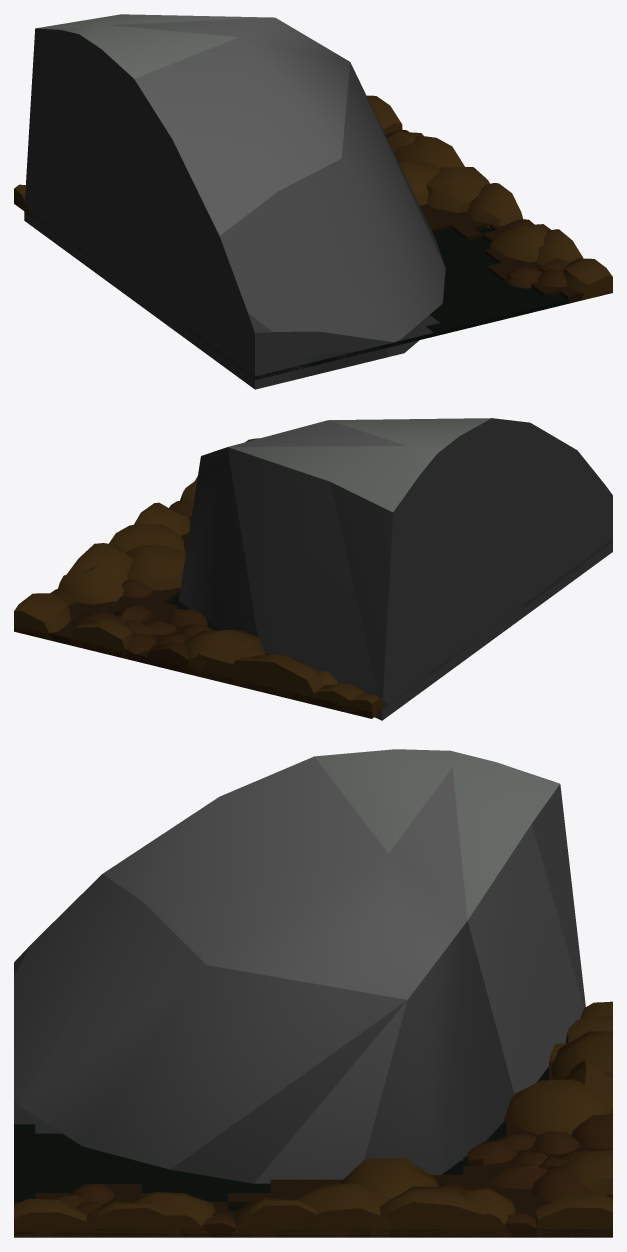
Rendered from holes_rocks_tr.glb.
The picture shows the model from 3 angles, top to bottom: view 1: azimuth 30°, elevation 25°; view 2: azimuth 150°, elevation 25°; view 3: azimuth 270°, elevation 25°; orthographic projection. The views are drawn at different scales.
Parts seen in each view (by area): view 1: holes_rocks_tr_rock_big, holes_rocks_tr_pit, holes_rocks_tr_dirt_base, holes_rocks_tr_dirt_39, holes_rocks_tr_dirt_53, holes_rocks_tr_dirt_38, holes_rocks_tr_dirt_74, holes_rocks_tr_dirt_48, holes_rocks_tr_rock_right, holes_rocks_tr_dirt_51, holes_rocks_tr_dirt_21, holes_rocks_tr_dirt_60 (+1 smaller); view 2: holes_rocks_tr_rock_big, holes_rocks_tr_dirt_base, holes_rocks_tr_dirt_17, holes_rocks_tr_dirt_21, holes_rocks_tr_dirt_60, holes_rocks_tr_dirt_33, holes_rocks_tr_dirt_43, holes_rocks_tr_dirt_4, holes_rocks_tr_dirt_66, holes_rocks_tr_dirt_48, holes_rocks_tr_dirt_39, holes_rocks_tr_dirt_53 (+9 smaller); view 3: holes_rocks_tr_rock_big, holes_rocks_tr_pit, holes_rocks_tr_dirt_base, holes_rocks_tr_dirt_48, holes_rocks_tr_dirt_33, holes_rocks_tr_dirt_39, holes_rocks_tr_dirt_60, holes_rocks_tr_dirt_53, holes_rocks_tr_dirt_38, holes_rocks_tr_dirt_51, holes_rocks_tr_dirt_74, holes_rocks_tr_dirt_21 (+12 smaller).
Part boxes in pixels (bbox=[...]): holes_rocks_tr_rock_big: bbox=[24, 14, 445, 389]; holes_rocks_tr_pit: bbox=[23, 207, 568, 379]; holes_rocks_tr_dirt_base: bbox=[14, 198, 611, 303]; holes_rocks_tr_dirt_39: bbox=[426, 167, 489, 213]; holes_rocks_tr_dirt_53: bbox=[467, 183, 522, 228]; holes_rocks_tr_dirt_38: bbox=[490, 224, 550, 262]; holes_rocks_tr_dirt_74: bbox=[563, 258, 612, 300]; holes_rocks_tr_dirt_48: bbox=[394, 136, 464, 168]; holes_rocks_tr_rock_right: bbox=[290, 348, 387, 380]; holes_rocks_tr_dirt_51: bbox=[536, 229, 582, 265]; holes_rocks_tr_dirt_21: bbox=[399, 162, 439, 205]; holes_rocks_tr_dirt_60: bbox=[367, 95, 402, 135]; holes_rocks_tr_rock_big: bbox=[179, 418, 612, 720]; holes_rocks_tr_dirt_base: bbox=[14, 516, 380, 718]; holes_rocks_tr_dirt_17: bbox=[224, 655, 323, 705]; holes_rocks_tr_dirt_21: bbox=[126, 545, 185, 590]; holes_rocks_tr_dirt_60: bbox=[14, 593, 70, 640]; holes_rocks_tr_dirt_33: bbox=[183, 630, 265, 681]; holes_rocks_tr_dirt_43: bbox=[181, 644, 269, 692]; holes_rocks_tr_dirt_4: bbox=[58, 566, 123, 604]; holes_rocks_tr_dirt_66: bbox=[69, 620, 132, 659]; holes_rocks_tr_dirt_48: bbox=[66, 543, 132, 584]; holes_rocks_tr_dirt_39: bbox=[109, 524, 185, 552]; holes_rocks_tr_dirt_53: bbox=[134, 502, 190, 536]; holes_rocks_tr_rock_big: bbox=[14, 749, 585, 1183]; holes_rocks_tr_pit: bbox=[14, 1066, 548, 1210]; holes_rocks_tr_dirt_base: bbox=[14, 1061, 612, 1237]; holes_rocks_tr_dirt_48: bbox=[371, 1186, 506, 1237]; holes_rocks_tr_dirt_33: bbox=[504, 1079, 612, 1134]; holes_rocks_tr_dirt_39: bbox=[296, 1183, 391, 1237]; holes_rocks_tr_dirt_60: bbox=[535, 1193, 612, 1237]; holes_rocks_tr_dirt_53: bbox=[231, 1196, 333, 1237]; holes_rocks_tr_dirt_38: bbox=[128, 1191, 215, 1237]; holes_rocks_tr_dirt_51: bbox=[80, 1200, 181, 1237]; holes_rocks_tr_dirt_74: bbox=[14, 1198, 94, 1237]; holes_rocks_tr_dirt_21: bbox=[341, 1157, 439, 1199].
Size of the model in its own units: 23.98 by 14.6 by 27.98.
